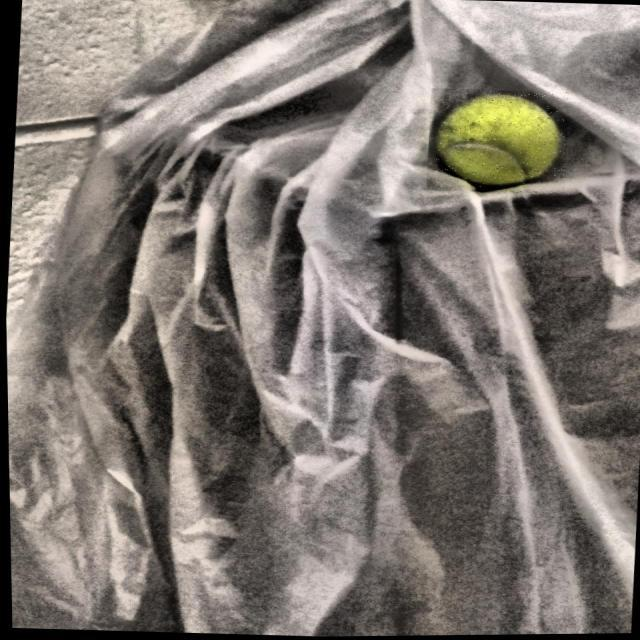tennis-ball: (424, 89, 572, 198)
